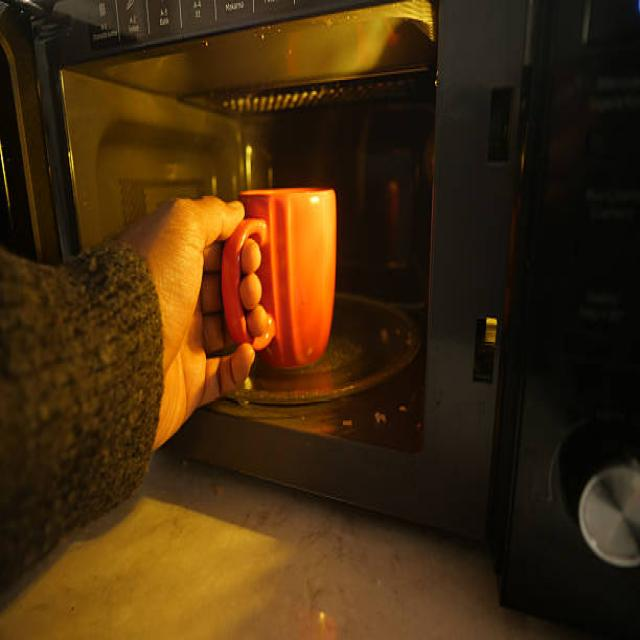Red_cup: (222, 189, 336, 367)
